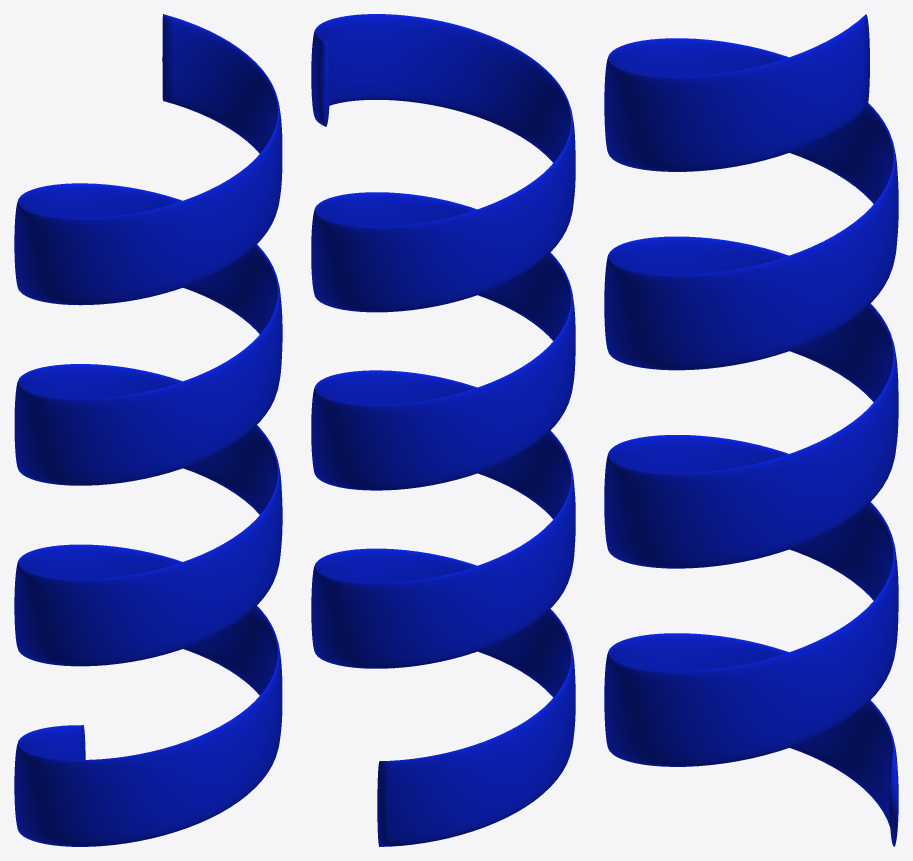
Rendered from Spiral2.glb.
3 renders of one model, left to right at view 1: azimuth 30°, elevation 25°; view 2: azimuth 150°, elevation 25°; view 3: azimuth 270°, elevation 25°, orthographic. The views are drawn at different scales.
Visible parts, largest first — view 1: Коло; view 2: Коло; view 3: Коло.
Part boxes in pixels (x1=…): Коло: x1=14, y1=14, x2=282, y2=846; Коло: x1=311, y1=14, x2=575, y2=846; Коло: x1=604, y1=14, x2=898, y2=846.
Size of the model in its own units: 5.11 by 16.63 by 5.11.
